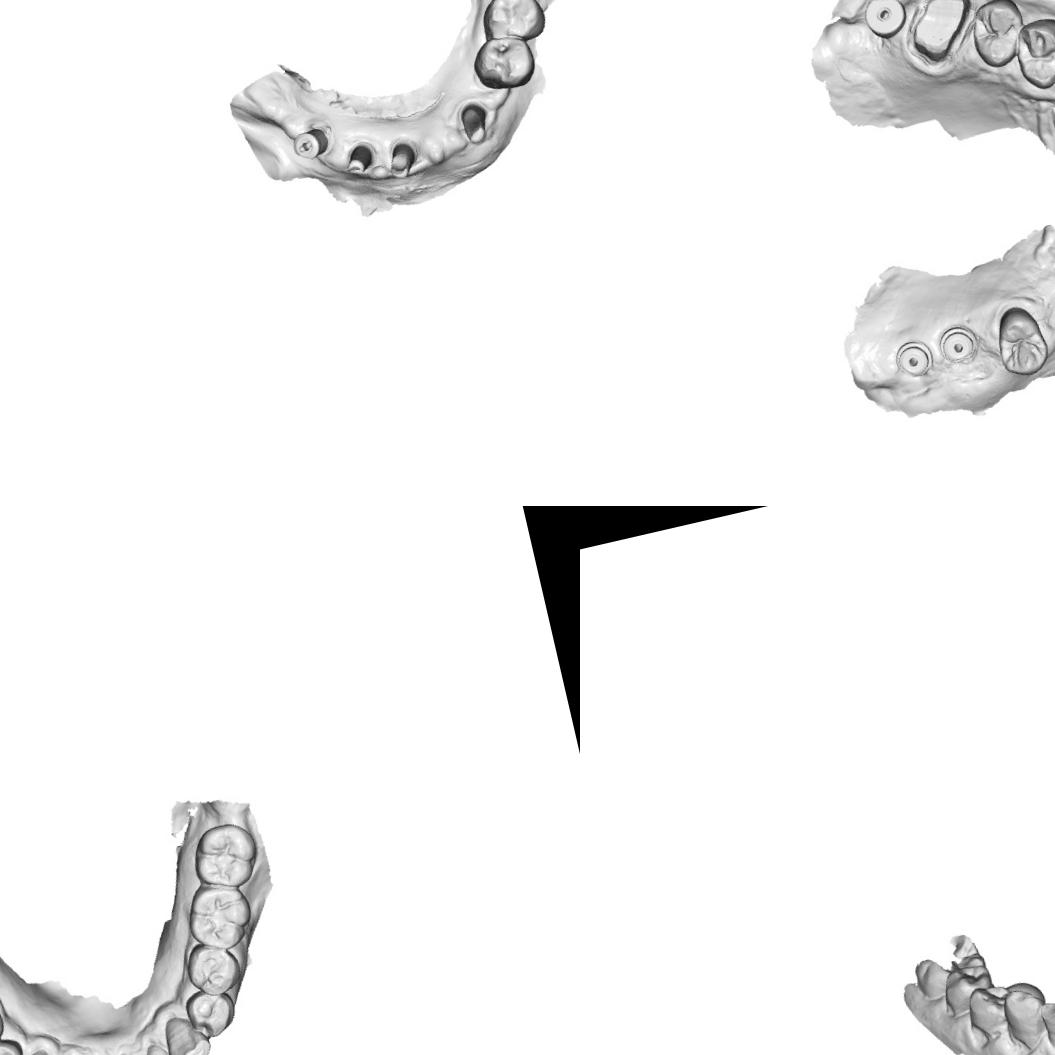abutment: (450, 94, 497, 149), (381, 132, 424, 182), (340, 138, 378, 178)
canine: (998, 976, 1053, 1051), (159, 1010, 217, 1055)
crown: (900, 0, 986, 70)
implant: (929, 318, 987, 372), (886, 334, 941, 385), (855, 0, 915, 45)
implant_minus: (288, 125, 331, 164)
incisor: (1035, 991, 1055, 1055), (136, 1035, 189, 1055)
molar: (179, 874, 260, 958), (185, 817, 265, 896)
premolar: (986, 298, 1055, 382), (962, 0, 1034, 73), (467, 28, 542, 97), (180, 936, 246, 1002), (1007, 10, 1055, 93), (938, 960, 1000, 1021), (475, 0, 550, 50), (181, 982, 241, 1043), (962, 980, 1018, 1037)
